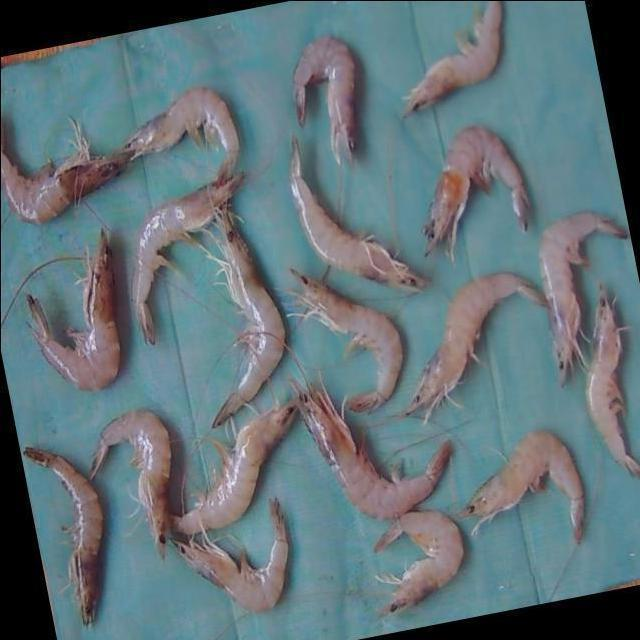shrimp: (291, 380, 450, 520), (401, 272, 547, 421), (288, 136, 428, 291), (129, 174, 242, 344), (171, 403, 296, 535), (290, 268, 401, 413), (211, 207, 284, 427), (539, 211, 628, 385), (25, 230, 118, 390), (421, 125, 528, 260), (22, 448, 101, 627), (459, 432, 583, 544), (173, 499, 287, 613), (0, 120, 127, 222), (88, 410, 170, 559), (404, 0, 501, 116), (122, 86, 238, 179), (586, 284, 640, 478), (375, 511, 463, 617), (292, 34, 354, 163)
